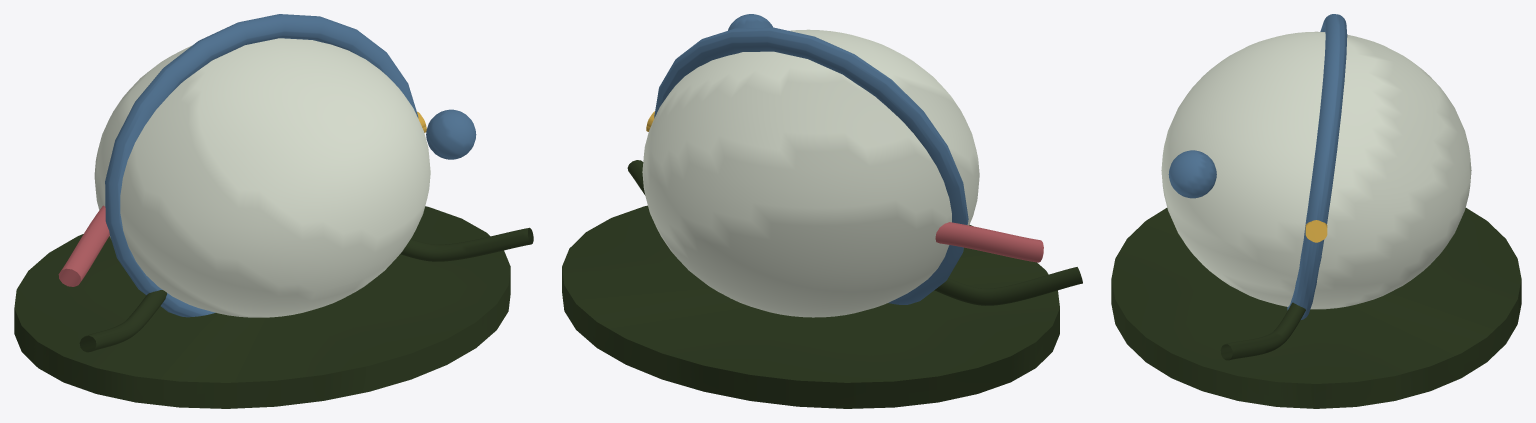
The model's file is 1219_细胞图鉴_叶绿体.glb.
3 renders of one model, left to right at view 1: azimuth 30°, elevation 25°; view 2: azimuth 150°, elevation 25°; view 3: azimuth 270°, elevation 25°, orthographic. The views are drawn at different scales.
Parts seen in each view (by area): view 1: card_1219; view 2: card_1219; view 3: card_1219.
Boxes of the visible parts, <box> form: card_1219: <box>14,14,533,408</box>; card_1219: <box>562,14,1082,408</box>; card_1219: <box>1111,14,1521,408</box>.
Size of the model in its own units: 1.66 by 1 by 1.36.
